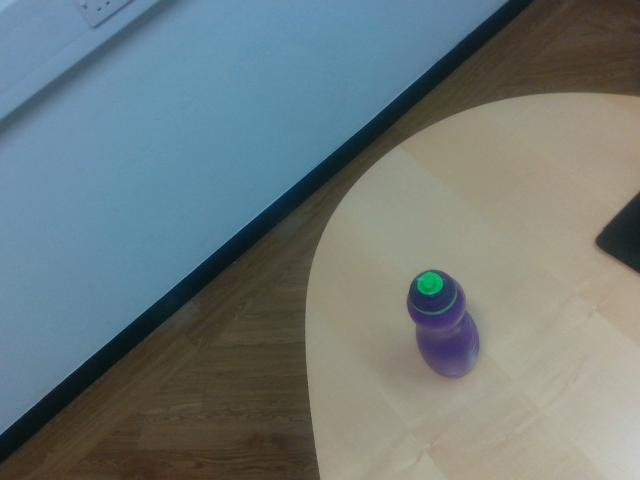bottle: (406, 271, 481, 380)
